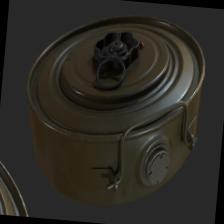TM-46: (16, 0, 223, 217)
